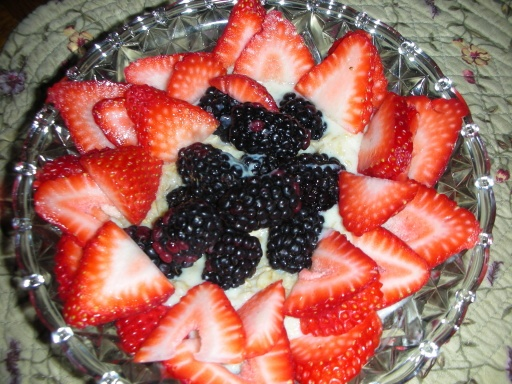background: (24, 0, 385, 230)
